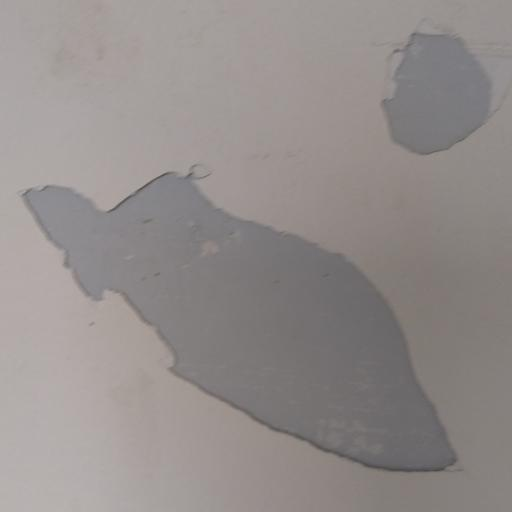peeling: (15, 157, 481, 486), (377, 17, 512, 164)
